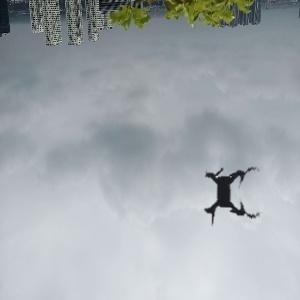drone: (172, 135, 289, 252)
